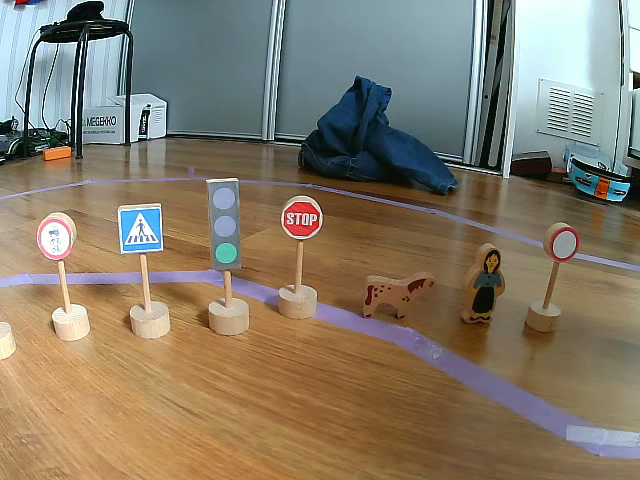fietspad: (38, 218, 75, 258)
groenlicht: (207, 178, 244, 271)
mens: (462, 245, 505, 322)
paard: (363, 273, 437, 316)
stopbord: (281, 200, 323, 240)
wegdicht: (551, 227, 578, 263)
zebrapad: (121, 205, 164, 255)
